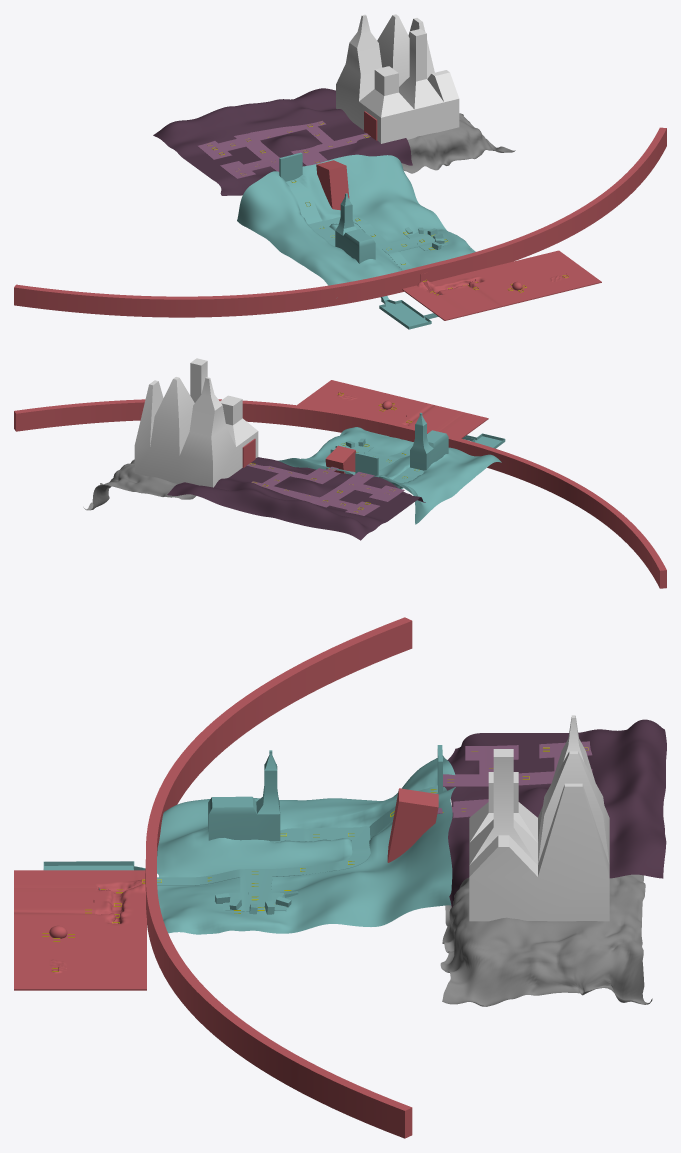
Rendered from full_rough_map_v2.fbx.
3 renders of one model, top to bottom at view 1: azimuth 30°, elevation 25°; view 2: azimuth 150°, elevation 25°; view 3: azimuth 270°, elevation 25°, orthographic. The views are drawn at different scales.
Parts seen in each view (by area): view 1: city_ruins_map_rough:ground_city, desert_map_rough:wall, castle, upper_ruins_ground, desert_map_rough:world, city_ruins_map_rough:roads_paths, upper_ruins_path, castle_ground, city_ruins_map_rough:church, ur_to_cr_shortcut, city_ruins_map_rough:gate_to_upper_city; view 2: desert_map_rough:wall, castle, upper_ruins_ground, city_ruins_map_rough:ground_city, desert_map_rough:world, upper_ruins_path, castle_ground, city_ruins_map_rough:church, city_ruins_map_rough:roads_paths, ur_to_cr_shortcut, city_ruins_map_rough:gate_to_upper_city; view 3: city_ruins_map_rough:ground_city, desert_map_rough:wall, castle, castle_ground, desert_map_rough:world, upper_ruins_ground, city_ruins_map_rough:roads_paths, city_ruins_map_rough:church, upper_ruins_path, ur_to_cr_shortcut.
Part boxes in pixels (bbox=[...]): city_ruins_map_rough:ground_city: bbox=[237, 154, 475, 285]; desert_map_rough:wall: bbox=[14, 127, 666, 317]; castle: bbox=[336, 14, 459, 143]; upper_ruins_ground: bbox=[153, 88, 412, 195]; desert_map_rough:world: bbox=[402, 250, 601, 320]; city_ruins_map_rough:roads_paths: bbox=[286, 180, 447, 329]; upper_ruins_path: bbox=[197, 120, 370, 178]; castle_ground: bbox=[401, 113, 515, 173]; city_ruins_map_rough:church: bbox=[335, 193, 375, 263]; ur_to_cr_shortcut: bbox=[316, 160, 349, 210]; city_ruins_map_rough:gate_to_upper_city: bbox=[279, 152, 302, 181]; desert_map_rough:wall: bbox=[14, 399, 666, 588]; castle: bbox=[134, 358, 258, 487]; upper_ruins_ground: bbox=[167, 457, 425, 540]; city_ruins_map_rough:ground_city: bbox=[278, 427, 501, 524]; desert_map_rough:world: bbox=[297, 380, 488, 438]; upper_ruins_path: bbox=[246, 463, 404, 515]; castle_ground: bbox=[83, 459, 196, 510]; city_ruins_map_rough:church: bbox=[410, 412, 448, 470]; city_ruins_map_rough:roads_paths: bbox=[345, 433, 505, 489]; ur_to_cr_shortcut: bbox=[325, 445, 355, 473]; city_ruins_map_rough:gate_to_upper_city: bbox=[355, 452, 378, 477]; city_ruins_map_rough:ground_city: bbox=[157, 755, 455, 934]; desert_map_rough:wall: bbox=[145, 617, 412, 1138]; castle: bbox=[469, 715, 609, 921]; castle_ground: bbox=[440, 874, 652, 1006]; desert_map_rough:world: bbox=[14, 870, 146, 990]; upper_ruins_ground: bbox=[445, 719, 666, 907]; city_ruins_map_rough:roads_paths: bbox=[43, 785, 437, 911]; city_ruins_map_rough:church: bbox=[208, 750, 280, 840]; upper_ruins_path: bbox=[437, 741, 592, 818]; ur_to_cr_shortcut: bbox=[387, 788, 438, 862].
Bounding box in the file's own units: 50557 × 11706 × 28260.
